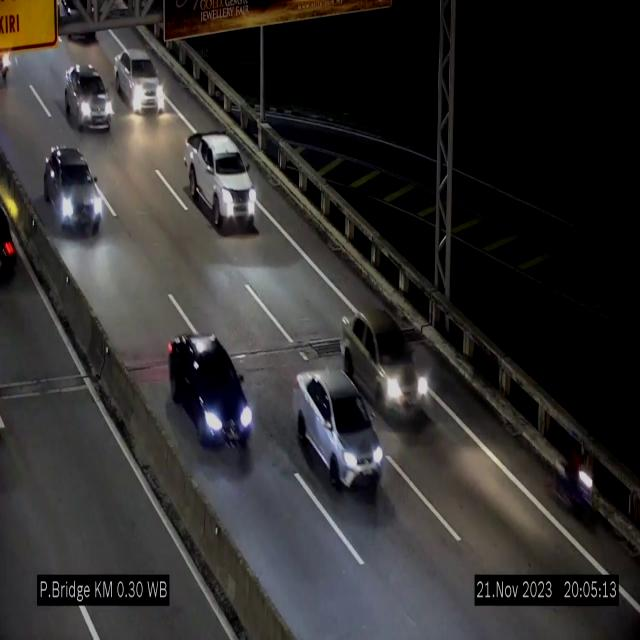Car: (293, 368, 384, 489), (168, 334, 256, 457), (342, 314, 428, 428), (185, 133, 258, 231), (44, 146, 103, 232), (114, 48, 166, 114), (64, 65, 112, 131)
Motorcycle: (558, 428, 598, 526)
